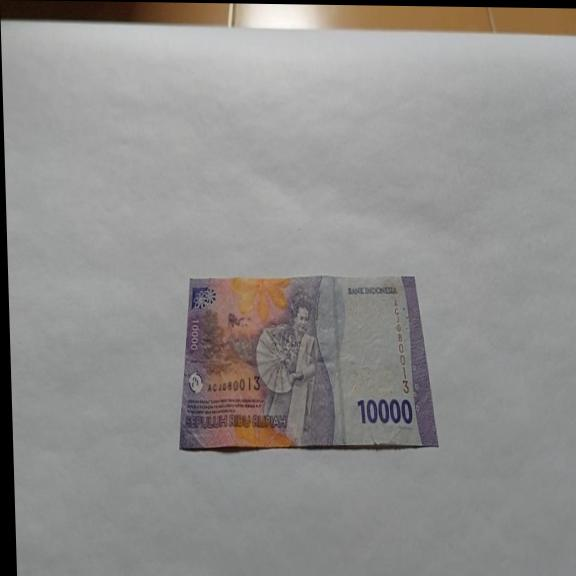Kertas: (173, 269, 438, 455), (357, 395, 413, 426)
